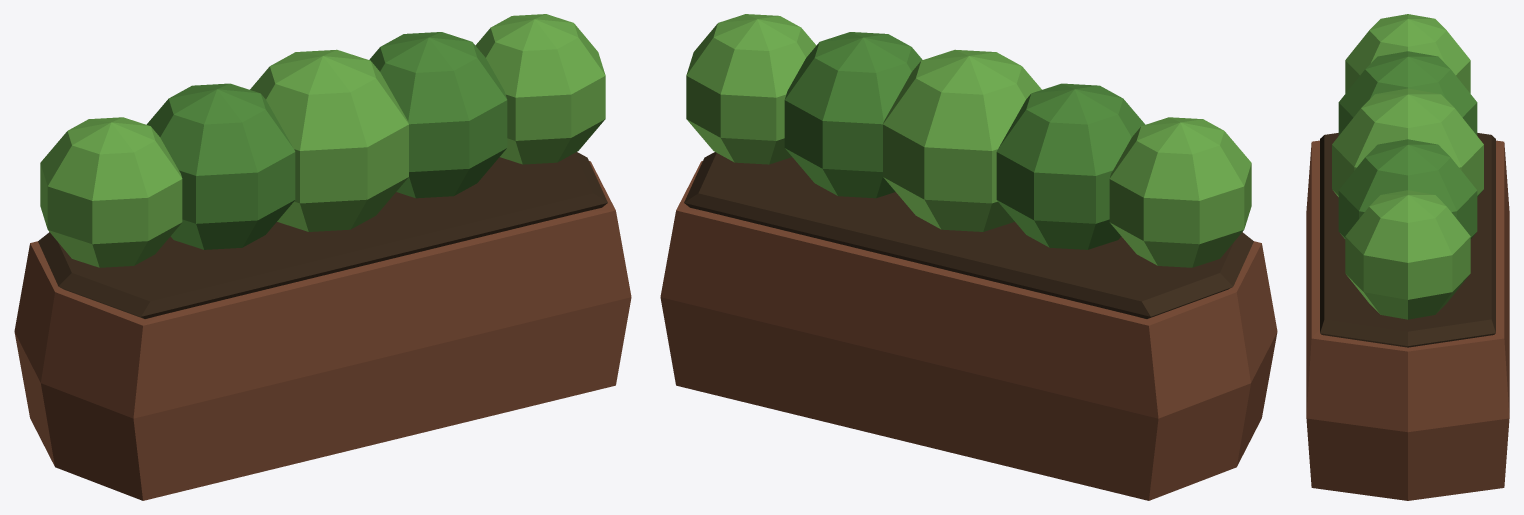
File: r-planter.glb
The picture shows the model from 3 angles, left to right: view 1: azimuth 30°, elevation 25°; view 2: azimuth 150°, elevation 25°; view 3: azimuth 270°, elevation 25°; orthographic projection. The views are drawn at different scales.
Parts seen in each view (by area): view 1: p; view 2: p; view 3: p.
Boxes of the visible parts, x1=… form: p: x1=14, y1=14, x2=631, y2=500; p: x1=660, y1=14, x2=1277, y2=500; p: x1=1306, y1=14, x2=1509, y2=500.
Size of the model in its own units: 1.6 by 0.95 by 0.5847.
